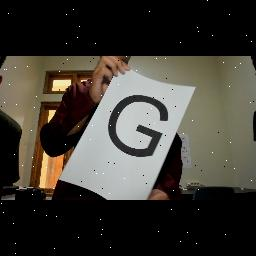g: (104, 91, 172, 165)
